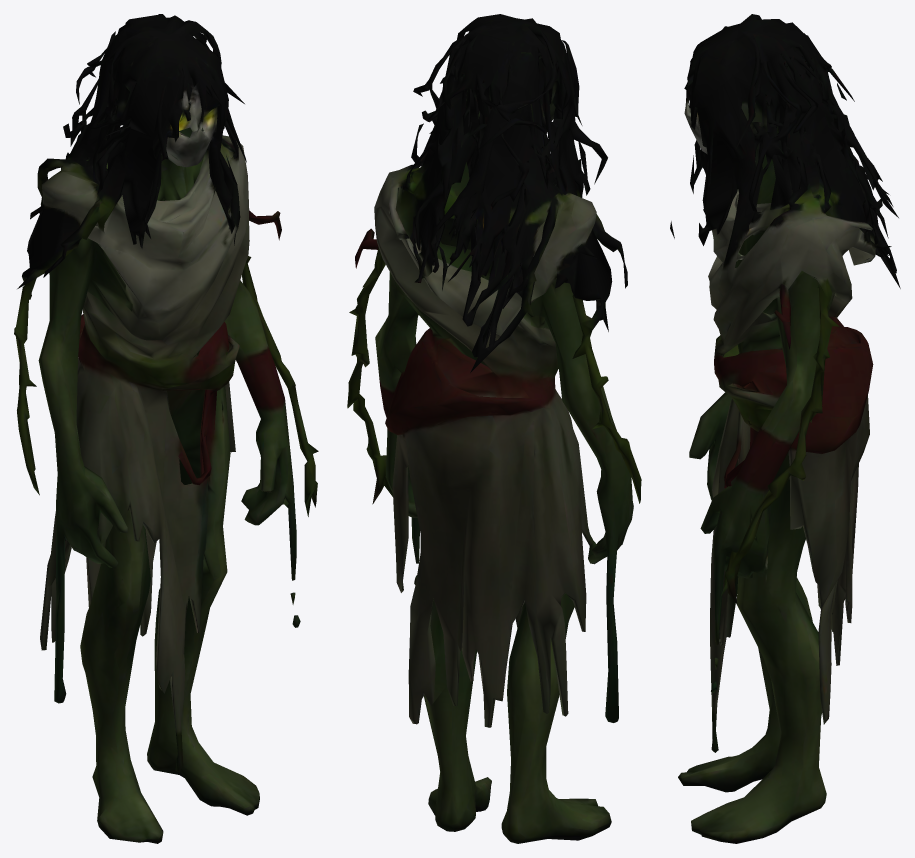
File: drowned.glb
3 views of the same model, side by side, from view 1: azimuth 30°, elevation 25°; view 2: azimuth 150°, elevation 25°; view 3: azimuth 270°, elevation 25° (orthographic). The views are drawn at different scales.
Parts seen in each view (by area): view 1: geometry_0; view 2: geometry_0; view 3: geometry_0.
Part boxes in pixels (x1,y1,x2,y2): geometry_0: [14, 14, 318, 843]; geometry_0: [347, 14, 641, 843]; geometry_0: [670, 14, 900, 843].
Bounding box in the file's own units: 0.3737 × 1 × 0.2682.
Materials: 1 (1 with a texture image).
